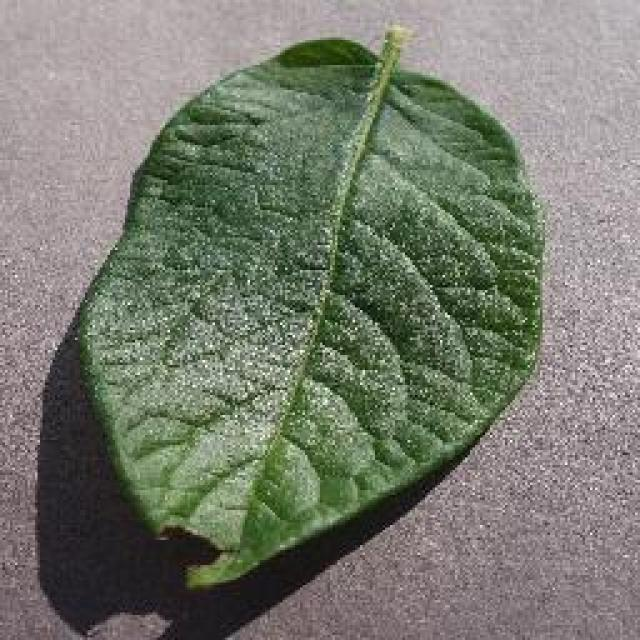Potato___healthy: (65, 21, 546, 597)
